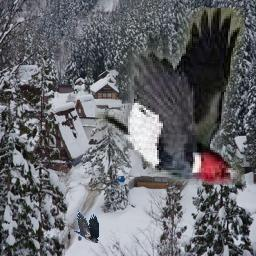Crow: (73, 211, 99, 244)
Woodpecker: (95, 9, 245, 186)
